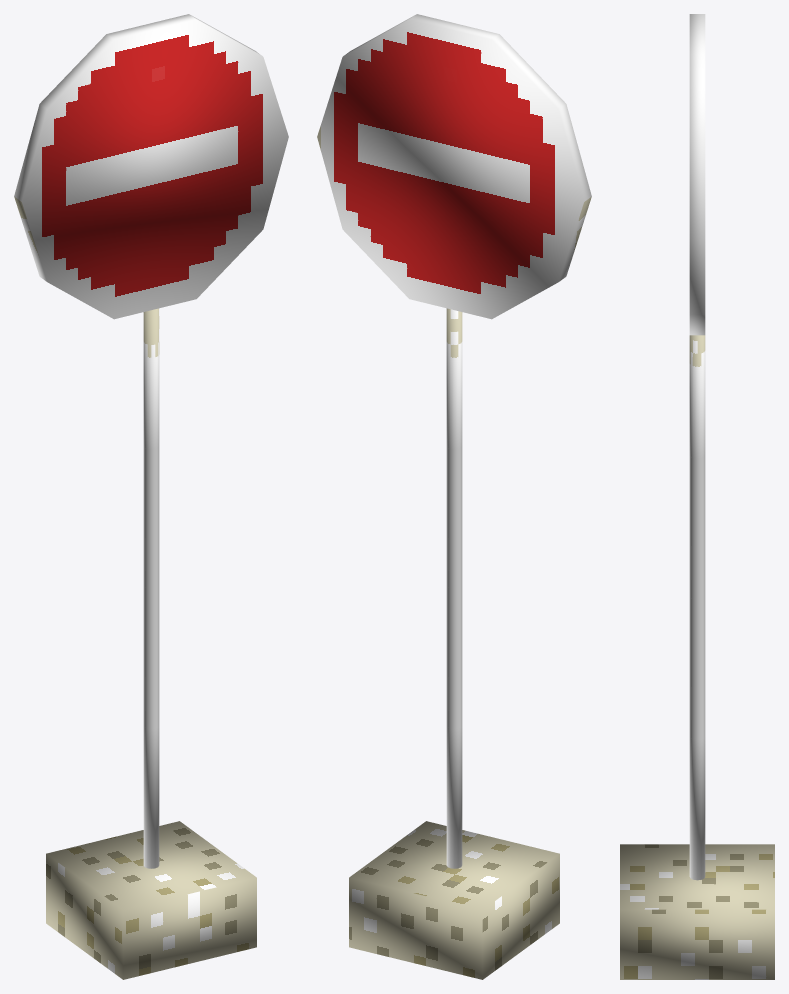
Rendered from sign.fbx.
The picture shows the model from 3 angles, left to right: view 1: azimuth 30°, elevation 25°; view 2: azimuth 150°, elevation 25°; view 3: azimuth 270°, elevation 25°; orthographic projection.
Parts seen in each view (by area): view 1: sign_stop:Cube; view 2: sign_stop:Cube; view 3: sign_stop:Cube.
Part boxes in pixels (x1,y1,x2,y2): sign_stop:Cube: [14, 14, 288, 979]; sign_stop:Cube: [317, 14, 591, 979]; sign_stop:Cube: [620, 14, 774, 979].
Size of the model in its own units: 2 by 6.5 by 1.
